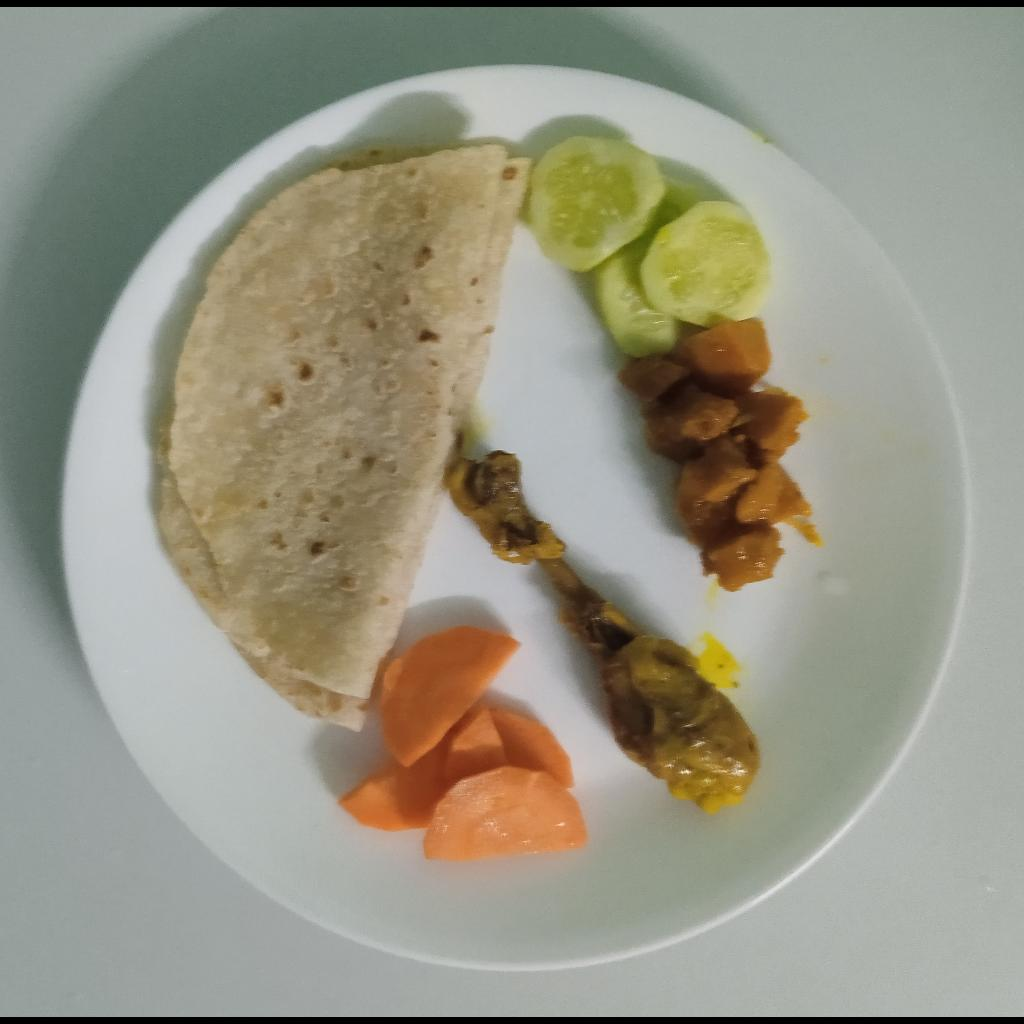carrot: (336, 623, 591, 867)
chicken: (445, 450, 766, 819)
cucumber: (527, 130, 783, 352)
kumra-vaji: (619, 316, 824, 594)
ruti: (153, 140, 532, 736)
